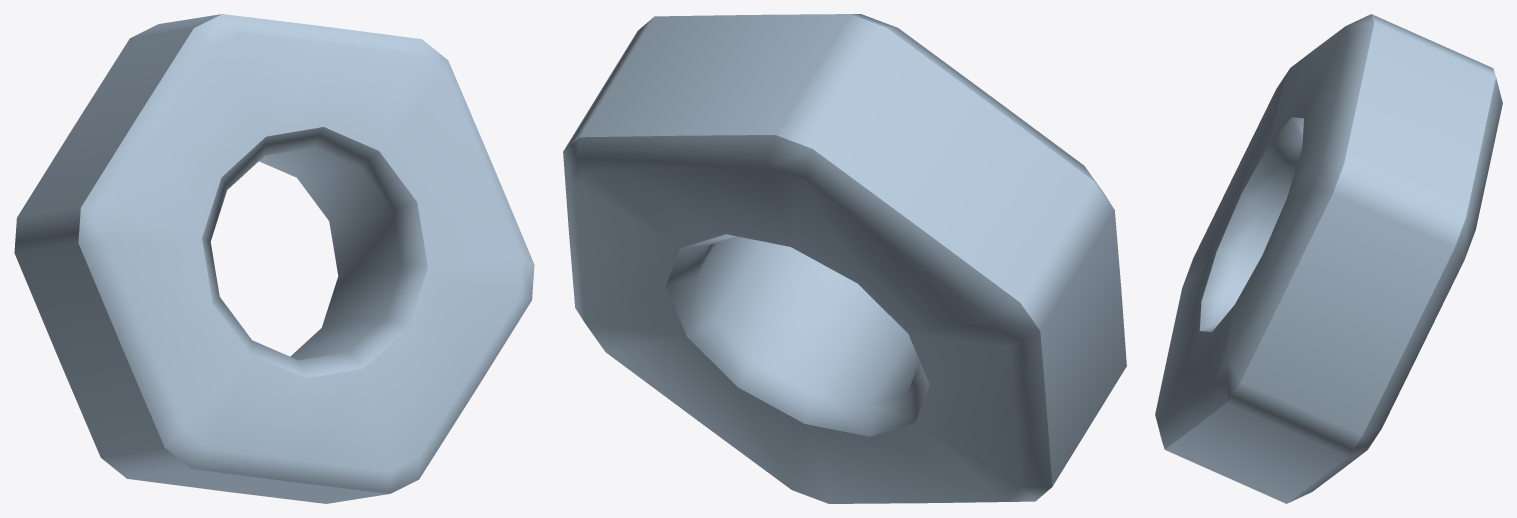
The picture shows the model from 3 angles, left to right: view 1: azimuth 30°, elevation 25°; view 2: azimuth 150°, elevation 25°; view 3: azimuth 270°, elevation 25°; orthographic projection. The views are drawn at different scales.
Parts seen in each view (by area): view 1: model_0.071; view 2: model_0.071; view 3: model_0.071.
Boxes of the visible parts, left/top/right/bottom form: model_0.071: left=14, top=14, right=534, bottom=503; model_0.071: left=563, top=14, right=1126, bottom=503; model_0.071: left=1155, top=14, right=1502, bottom=503.
Size of the model in its own units: 3.32 by 3.48 by 2.45.
